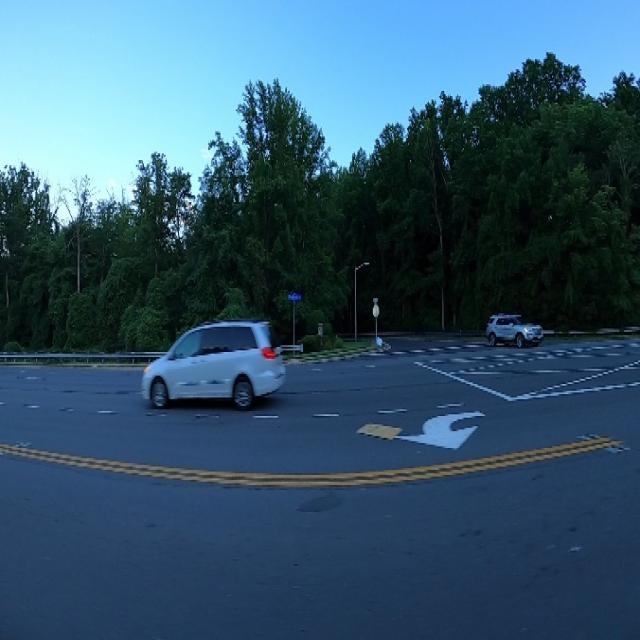car: (130, 312, 292, 413), (482, 305, 544, 359)
